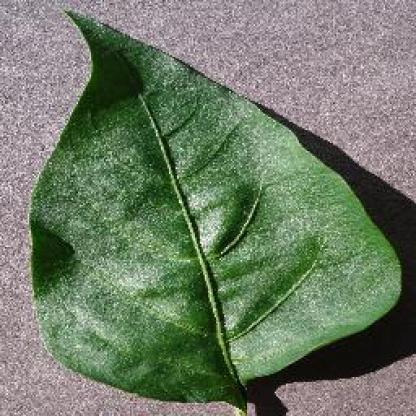good leaf: (53, 29, 368, 384)
